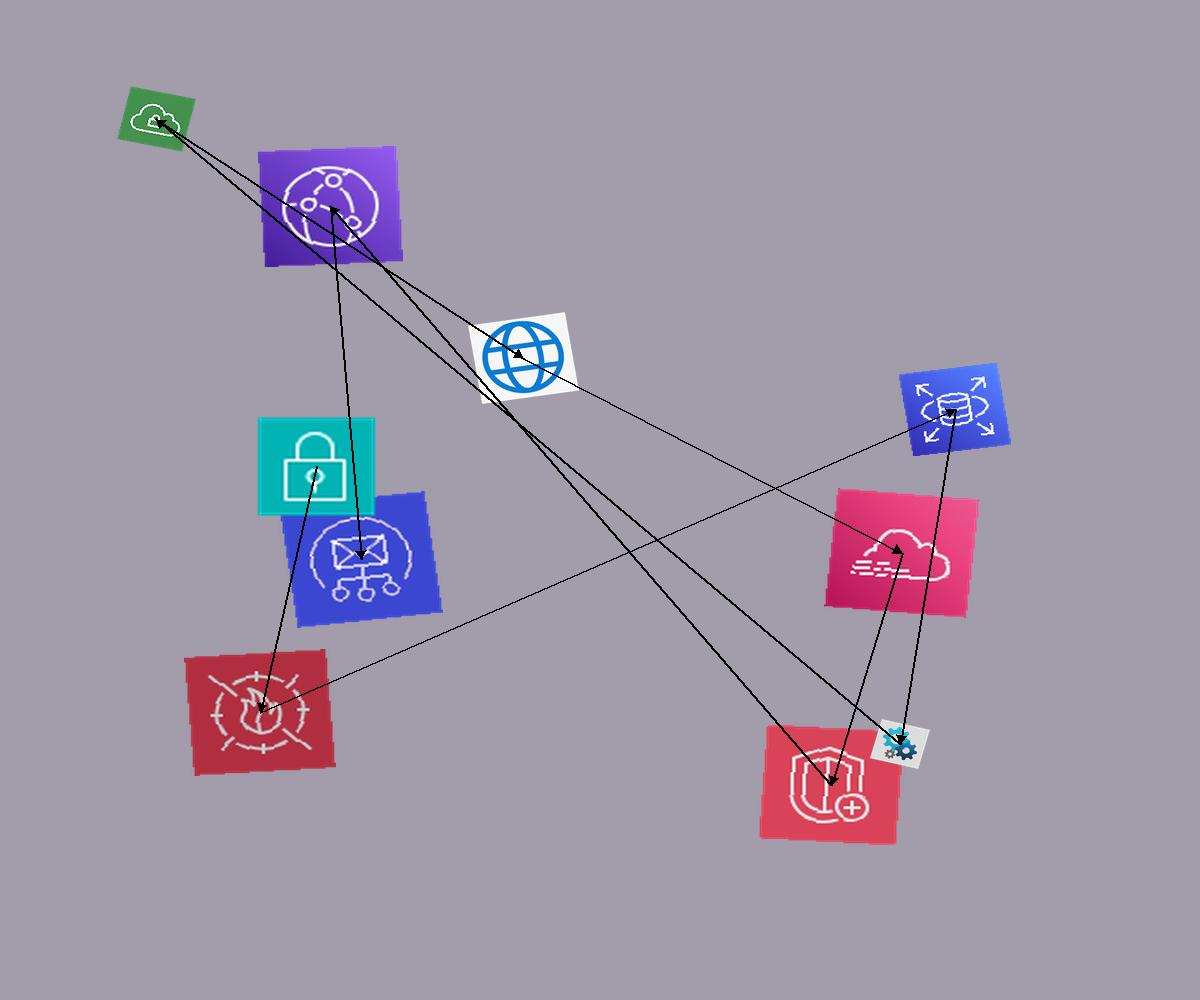AWS-CloudFront: (258, 146, 403, 267)
AWS-CloudTrail: (824, 488, 980, 618)
AWS-Private-subnet: (255, 415, 378, 518)
AWS-Private_vpc: (117, 86, 196, 152)
AWS-RDS: (898, 362, 1012, 457)
AWS-Shield: (758, 724, 905, 846)
AWS-Simple-Email-Service: (279, 491, 443, 628)
AWS-WAF: (184, 649, 336, 776)
Azure_api: (870, 719, 930, 769)
Azure_http: (468, 312, 579, 404)
